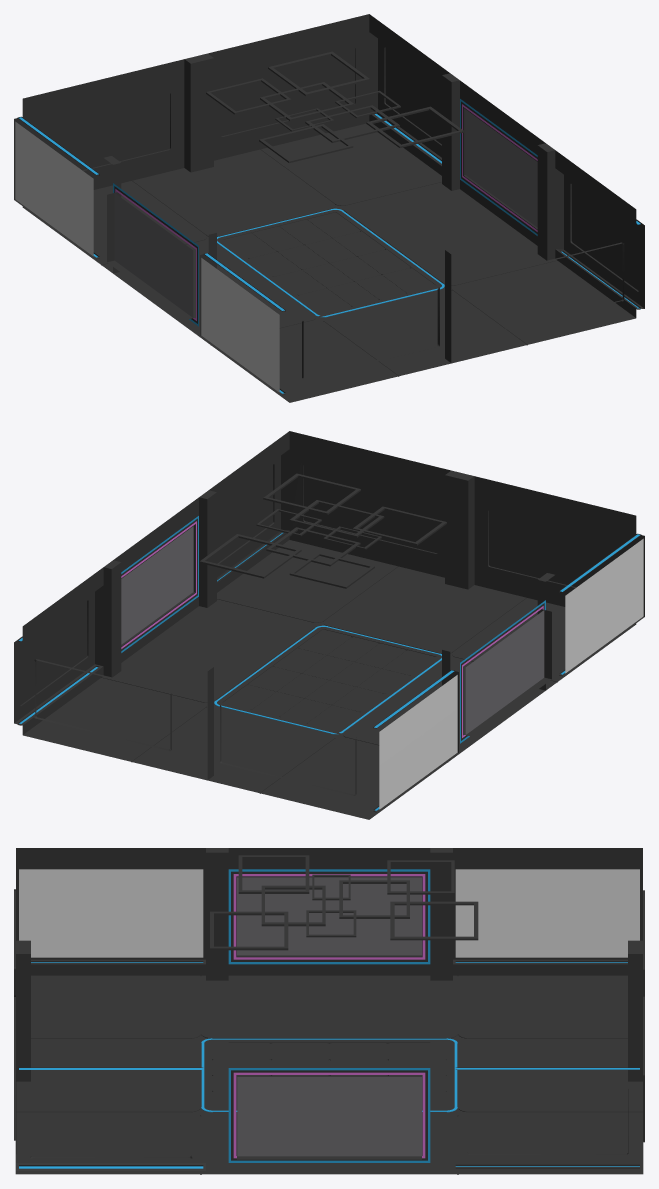
Rendered from Gym.fbx.
The picture shows the model from 3 angles, top to bottom: view 1: azimuth 30°, elevation 25°; view 2: azimuth 150°, elevation 25°; view 3: azimuth 270°, elevation 25°; orthographic projection. The views are drawn at different scales.
Parts seen in each view (by area): view 1: Gym; view 2: Gym; view 3: Gym.
Part boxes in pixels (x1=…): Gym: x1=14, y1=14, x2=644, y2=402; Gym: x1=14, y1=431, x2=644, y2=819; Gym: x1=14, y1=848, x2=644, y2=1174.
Size of the model in its own units: 1356 by 529 by 1722.
